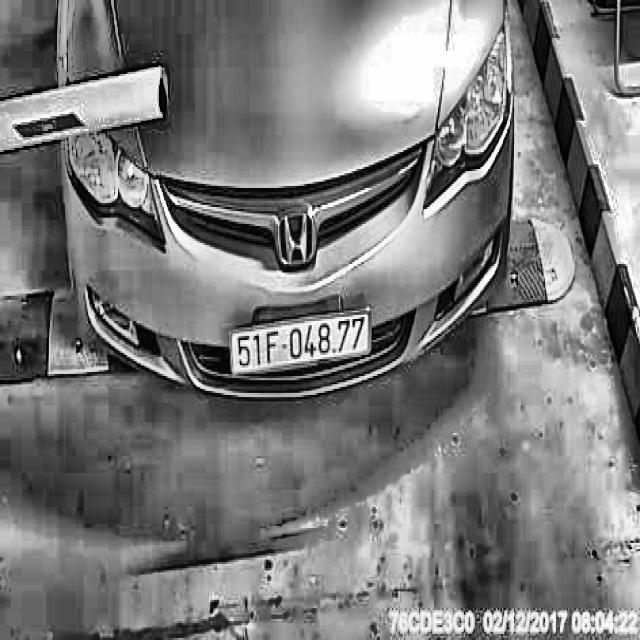plate: (228, 302, 376, 381)
